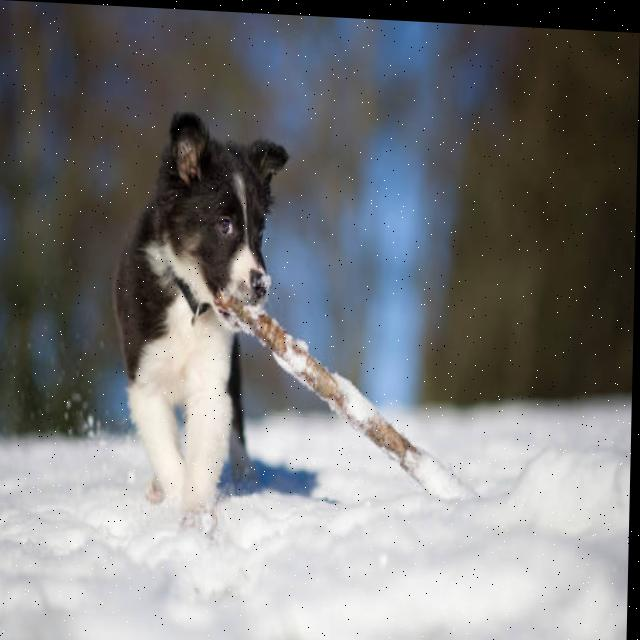BORDER_COLLIE: (94, 95, 307, 526)
